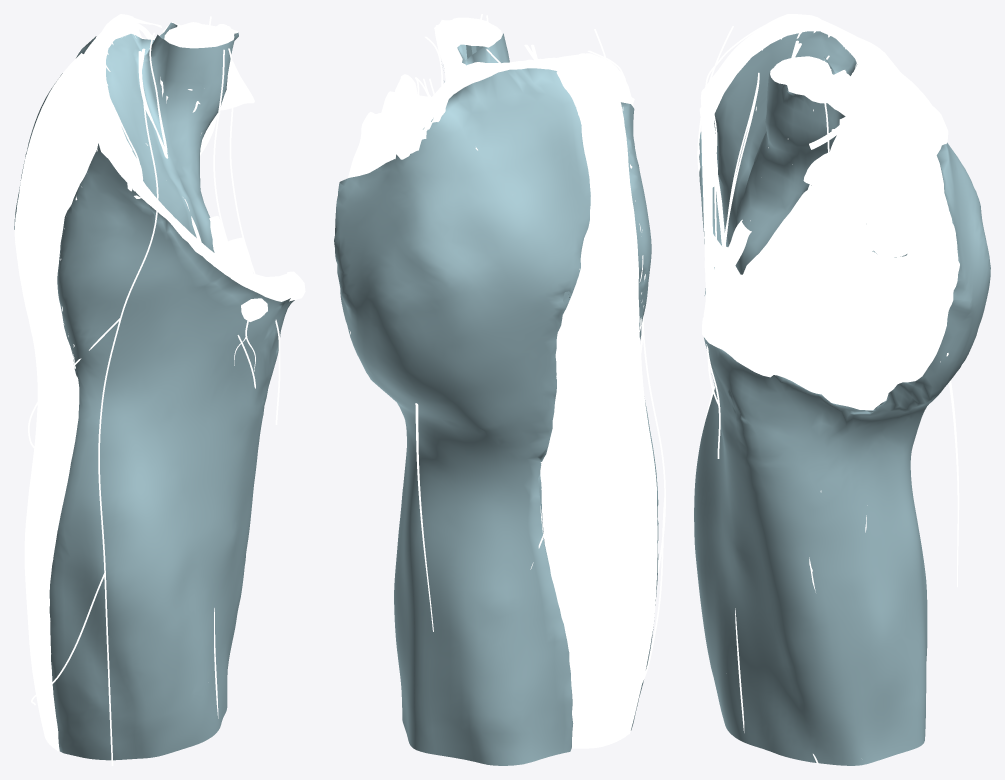
Rendered from hip_thigh.glb.
3 renders of one model, left to right at view 1: azimuth 30°, elevation 25°; view 2: azimuth 150°, elevation 25°; view 3: azimuth 270°, elevation 25°, orthographic.
Parts seen in each view (by area): view 1: Fascia lata.r, Iliotibial tract.r, Iliopsoas fascia.r, Hip bone.r, Lateral femoral cutaneous nerve.r.001, Inguinal ligament.r, Psoas major.r, Sacrum, Femoral nerve.r.001, Genital branch of genitofemoral nerve.r.001, Pectineus muscle.r, Femoral branch of genitofemoral nerve.r.001 (+2 smaller); view 2: Fascia lata.r, Iliotibial tract.r, Hip bone.r, Sacrum, Psoas major.r, Lateral femoral cutaneous nerve.r.001, Posterior sacro-iliac ligament.r, Iliopsoas fascia.r, Posterior femoral cutaneous nerve.r.001; view 3: Fascia lata.r, Hip bone.r, Iliopsoas fascia.r, Obturator internus.r, Sacrum, Gluteus maximus muscle.r, Posterior sacro-iliac ligament.r, Psoas major.r, Inguinal ligament.r, Piriformis muscle.r, Sciatic nerve.r.001, Pubic symphysis (+13 smaller).
Boxes of the visible parts, left/top/right/bottom form: Fascia lata.r: left=14, top=36, right=294, bottom=760; Iliotibial tract.r: left=14, top=53, right=100, bottom=751; Iliopsoas fascia.r: left=106, top=22, right=238, bottom=252; Hip bone.r: left=73, top=14, right=289, bottom=301; Lateral femoral cutaneous nerve.r.001: left=28, top=82, right=158, bottom=765; Inguinal ligament.r: left=131, top=170, right=281, bottom=300; Psoas major.r: left=160, top=22, right=238, bottom=133; Sacrum: left=220, top=60, right=254, bottom=110; Femoral nerve.r.001: left=138, top=32, right=201, bottom=241; Genital branch of genitofemoral nerve.r.001: left=228, top=48, right=280, bottom=424; Pectineus muscle.r: left=241, top=277, right=287, bottom=321; Femoral branch of genitofemoral nerve.r.001: left=213, top=49, right=255, bottom=371; Fascia lata.r: left=334, top=68, right=658, bottom=765; Iliotibial tract.r: left=540, top=71, right=657, bottom=748; Hip bone.r: left=396, top=53, right=633, bottom=145; Sacrum: left=348, top=74, right=427, bottom=177; Psoas major.r: left=434, top=17, right=502, bottom=80; Lateral femoral cutaneous nerve.r.001: left=530, top=29, right=665, bottom=727; Posterior sacro-iliac ligament.r: left=358, top=120, right=427, bottom=175; Iliopsoas fascia.r: left=444, top=33, right=509, bottom=82; Posterior femoral cutaneous nerve.r.001: left=415, top=403, right=433, bottom=631; Fascia lata.r: left=694, top=132, right=990, bottom=765; Hip bone.r: left=703, top=14, right=942, bottom=386; Iliopsoas fascia.r: left=714, top=31, right=857, bottom=274; Obturator internus.r: left=757, top=251, right=894, bottom=358; Sacrum: left=803, top=104, right=957, bottom=305; Gluteus maximus muscle.r: left=895, top=159, right=959, bottom=382; Posterior sacro-iliac ligament.r: left=880, top=105, right=948, bottom=265; Psoas major.r: left=743, top=56, right=850, bottom=274; Inguinal ligament.r: left=700, top=89, right=715, bottom=316; Piriformis muscle.r: left=857, top=208, right=917, bottom=257; Sciatic nerve.r.001: left=833, top=115, right=918, bottom=383; Pubic symphysis: left=702, top=318, right=746, bottom=353.
Size of the model in its own units: 0.155 by 0.44 by 0.1751.
